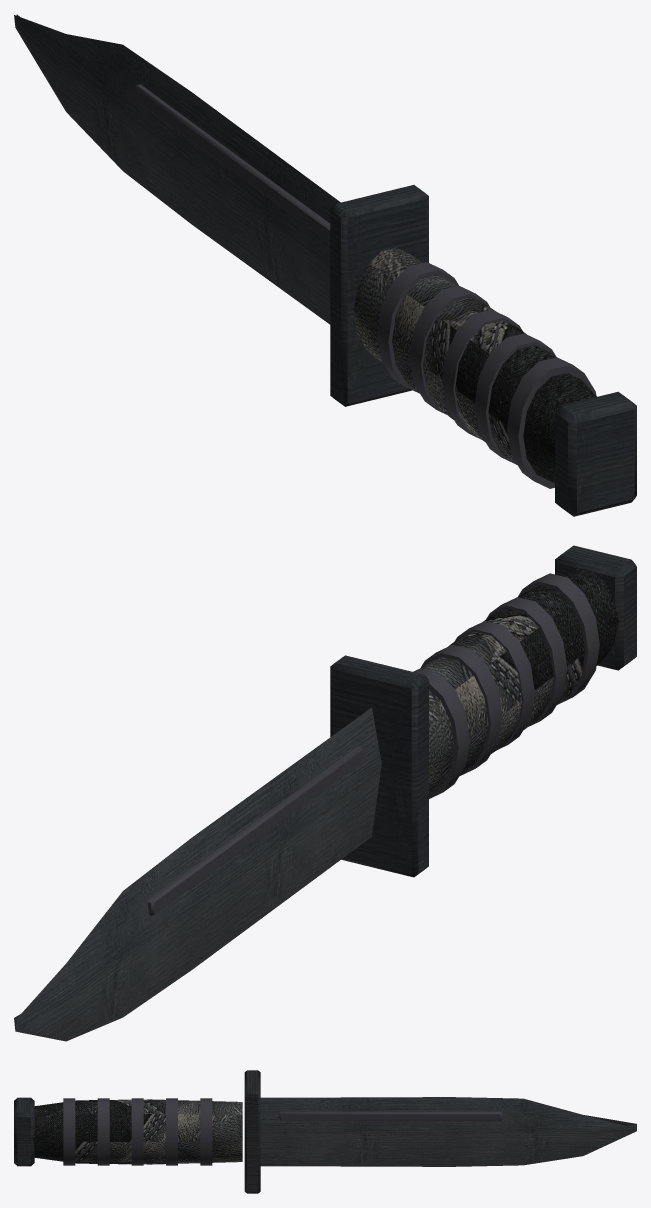
Rendered from knife.glb.
3 renders of one model, top to bottom at view 1: azimuth 30°, elevation 25°; view 2: azimuth 150°, elevation 25°; view 3: azimuth 270°, elevation 25°, orthographic. The views are drawn at different scales.
Parts seen in each view (by area): view 1: blade, handle, crossguard, pommel, fuller, grip_ring_-3.4, grip_ring_-0.2, grip_ring_-2.6, grip_ring_-1.0, grip_ring_-1.8; view 2: blade, handle, crossguard, fuller, pommel, grip_ring_-3.4, grip_ring_-1.0, grip_ring_-2.6, grip_ring_-0.2, grip_ring_-1.8; view 3: blade, handle, fuller, crossguard, pommel, grip_ring_-0.2, grip_ring_-1.8, grip_ring_-2.6, grip_ring_-3.4, grip_ring_-1.0.
Boxes of the visible parts, left/top/right/bottom form: blade: left=14, top=14, right=340, bottom=324; handle: left=354, top=247, right=596, bottom=482; crossguard: left=330, top=185, right=428, bottom=406; pommel: left=555, top=391, right=636, bottom=516; fuller: left=134, top=84, right=330, bottom=242; grip_ring_-3.4: left=507, top=357, right=596, bottom=488; grip_ring_-0.2: left=377, top=262, right=458, bottom=393; grip_ring_-2.6: left=474, top=333, right=556, bottom=464; grip_ring_-1.0: left=409, top=286, right=489, bottom=414; grip_ring_-1.8: left=442, top=309, right=522, bottom=439; blade: left=14, top=707, right=381, bottom=1041; handle: left=421, top=568, right=618, bottom=795; crossguard: left=330, top=655, right=428, bottom=877; fuller: left=147, top=746, right=362, bottom=915; pommel: left=555, top=545, right=636, bottom=670; grip_ring_-3.4: left=518, top=573, right=599, bottom=704; grip_ring_-1.0: left=420, top=644, right=502, bottom=776; grip_ring_-2.6: left=486, top=597, right=567, bottom=726; grip_ring_-0.2: left=413, top=668, right=469, bottom=798; grip_ring_-1.8: left=455, top=621, right=534, bottom=749; blade: left=260, top=1097, right=636, bottom=1166; handle: left=33, top=1099, right=242, bottom=1164; fuller: left=279, top=1111, right=501, bottom=1121; crossguard: left=244, top=1070, right=260, bottom=1193; pommel: left=14, top=1097, right=34, bottom=1166; grip_ring_-0.2: left=200, top=1098, right=212, bottom=1165; grip_ring_-1.8: left=131, top=1098, right=143, bottom=1165; grip_ring_-2.6: left=97, top=1098, right=109, bottom=1165; grip_ring_-3.4: left=63, top=1098, right=75, bottom=1165; grip_ring_-1.0: left=166, top=1098, right=177, bottom=1165.
Bounding box in the file's own units: 1.25 × 2.65 × 14.54.
4 materials, 3 textured.
